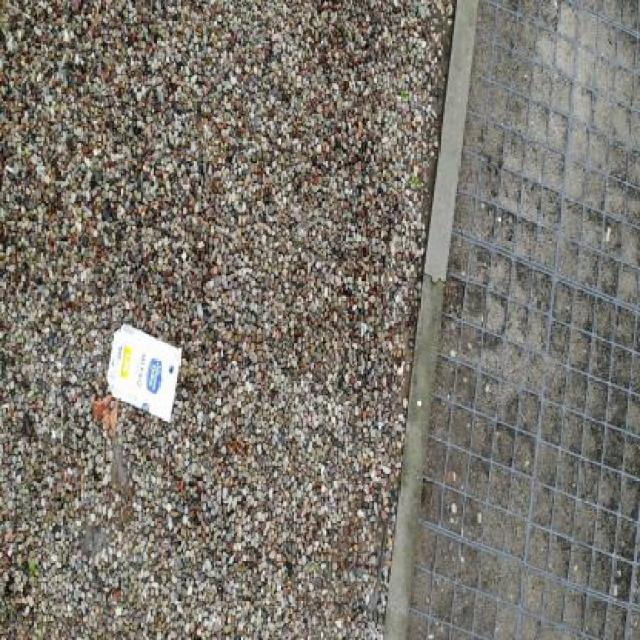Garbage: (106, 321, 182, 422)
